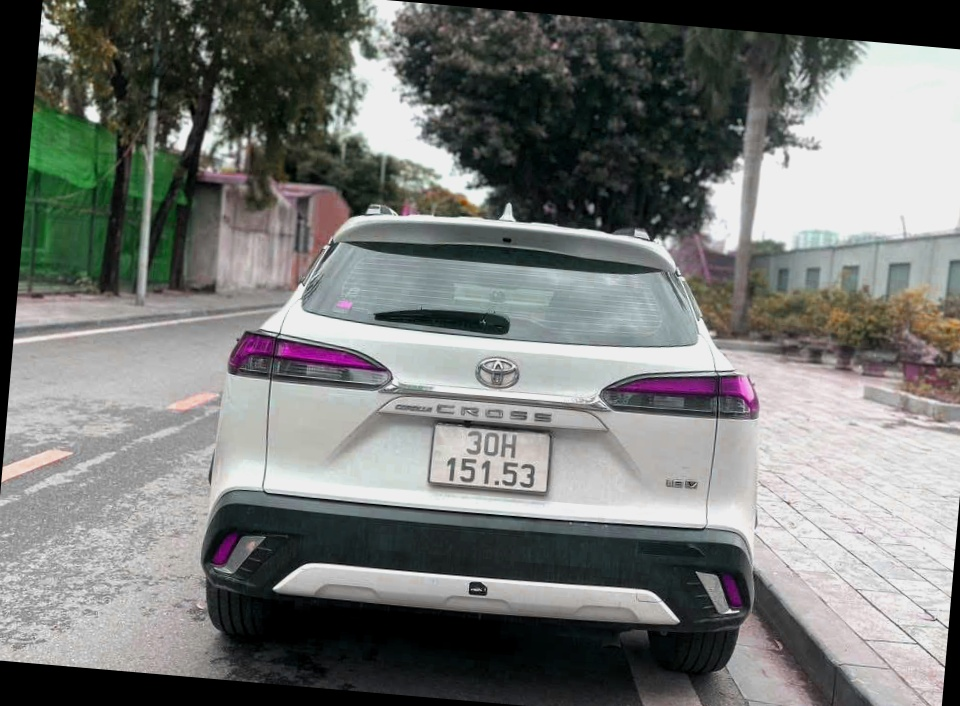Bien-so: (423, 432, 542, 495)
